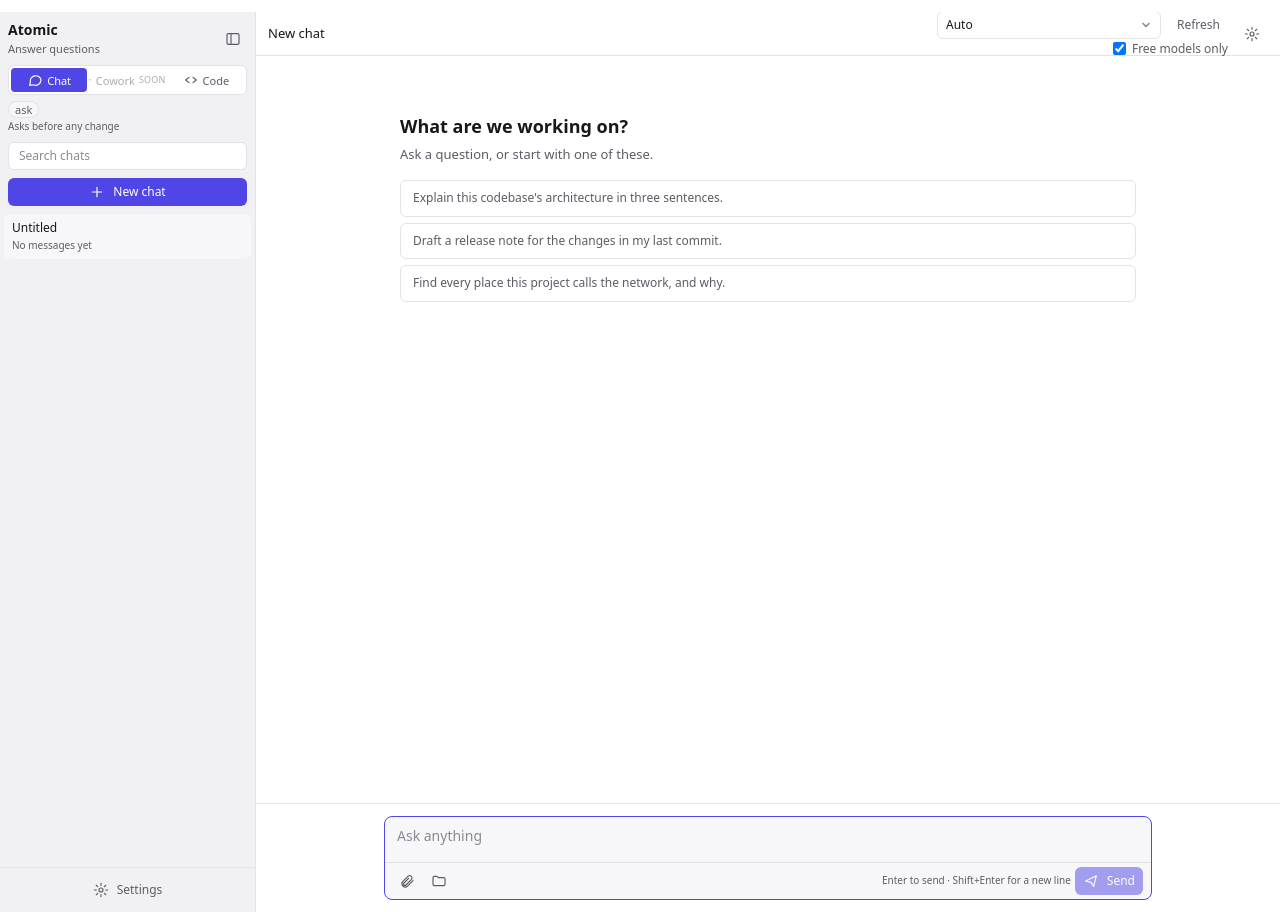
Test: New chat, through the real App › still works while a run is streaming
The width and height of the screenshot is (1280, 912).
expect the button "New chat" is enabled: met, box [8,178,247,206]
Step 1. Type "working on it" into the text box labelled "Ask anything" → (768, 837), box [385,817,1151,856]
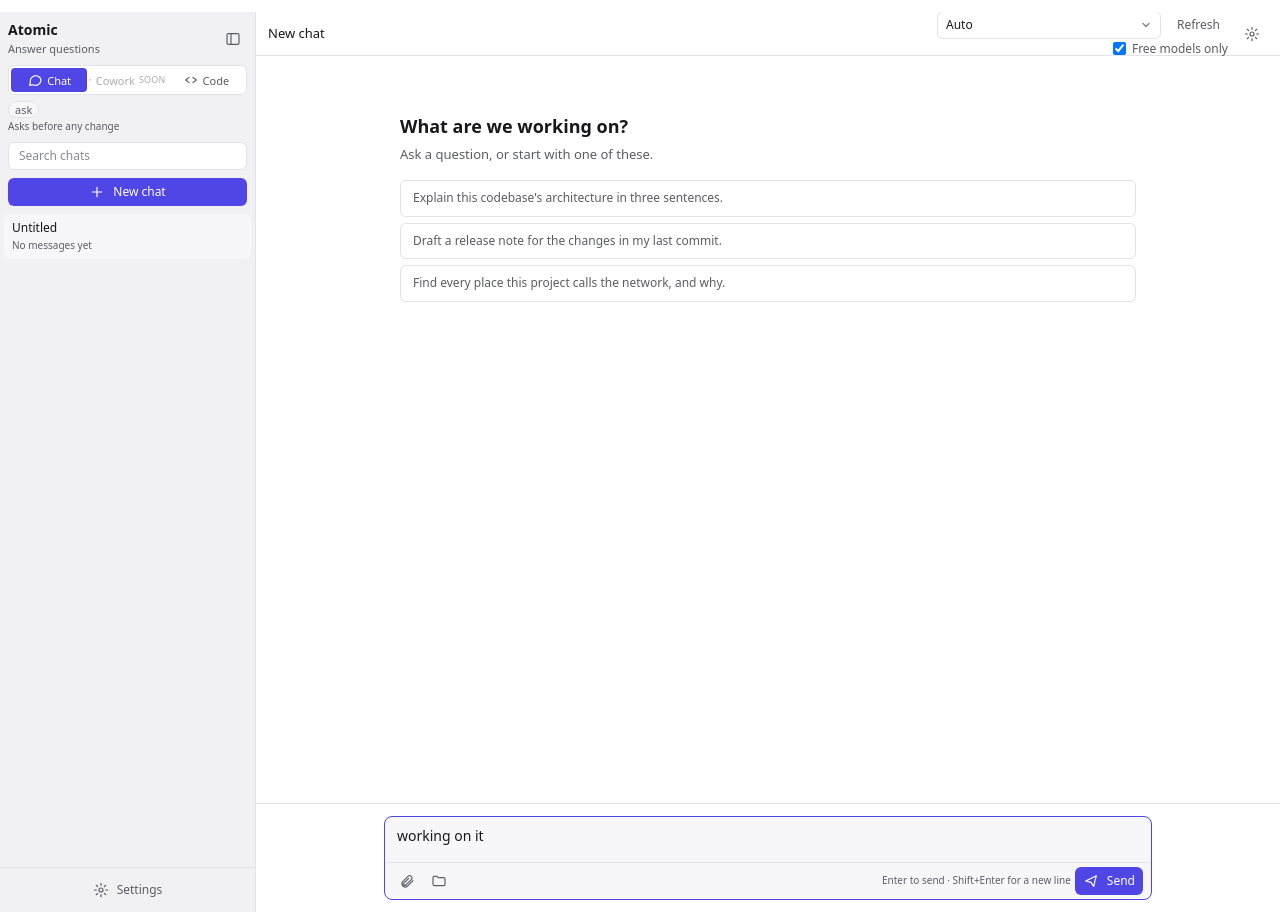
Step 2. Click the button "Send" → click(1109, 881), box [1075,867,1143,895]
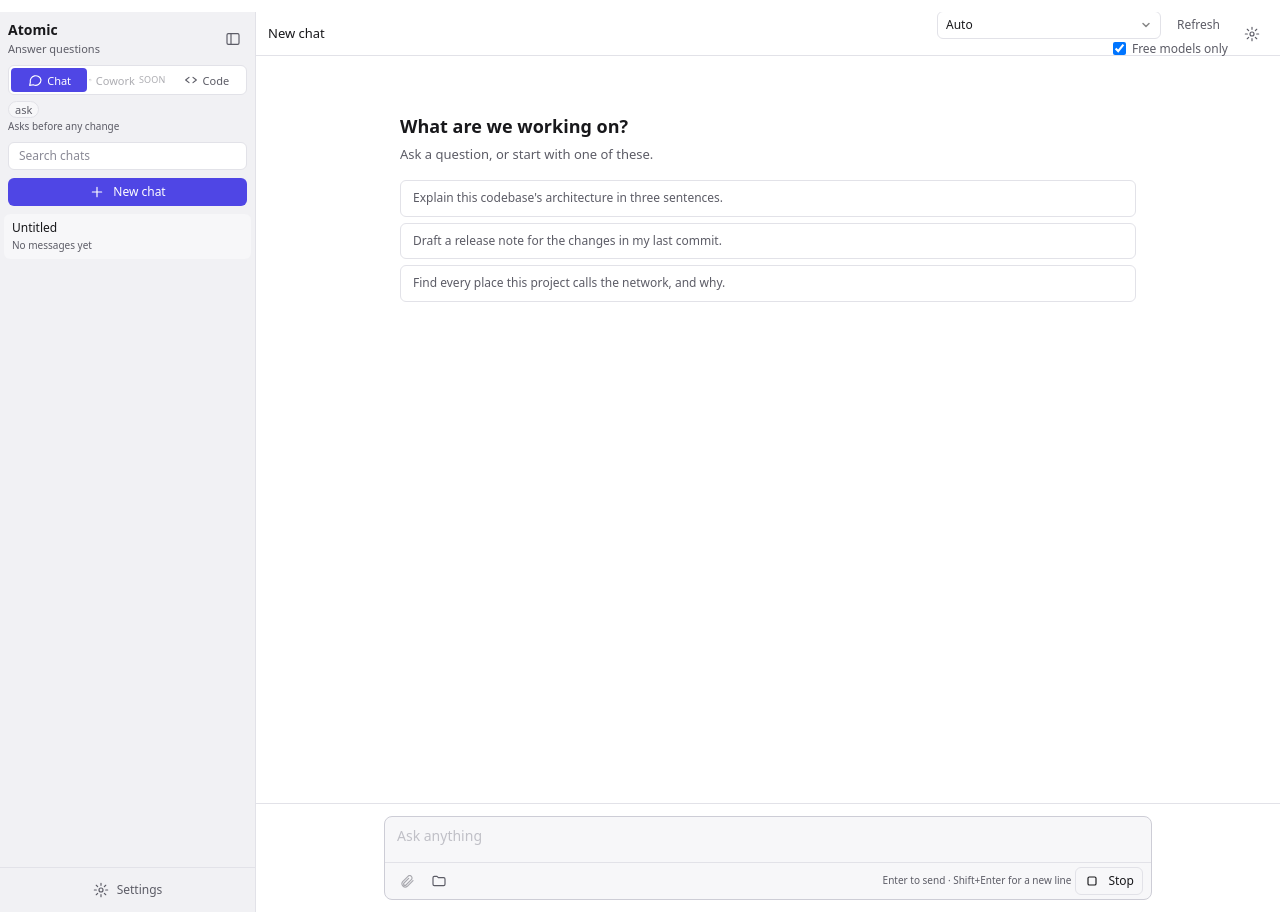
expect the text box labelled "Ask anything" is disabled: met, box [385,817,1151,856]
Step 3. Click the button "New chat" → click(128, 192), box [8,178,247,206]
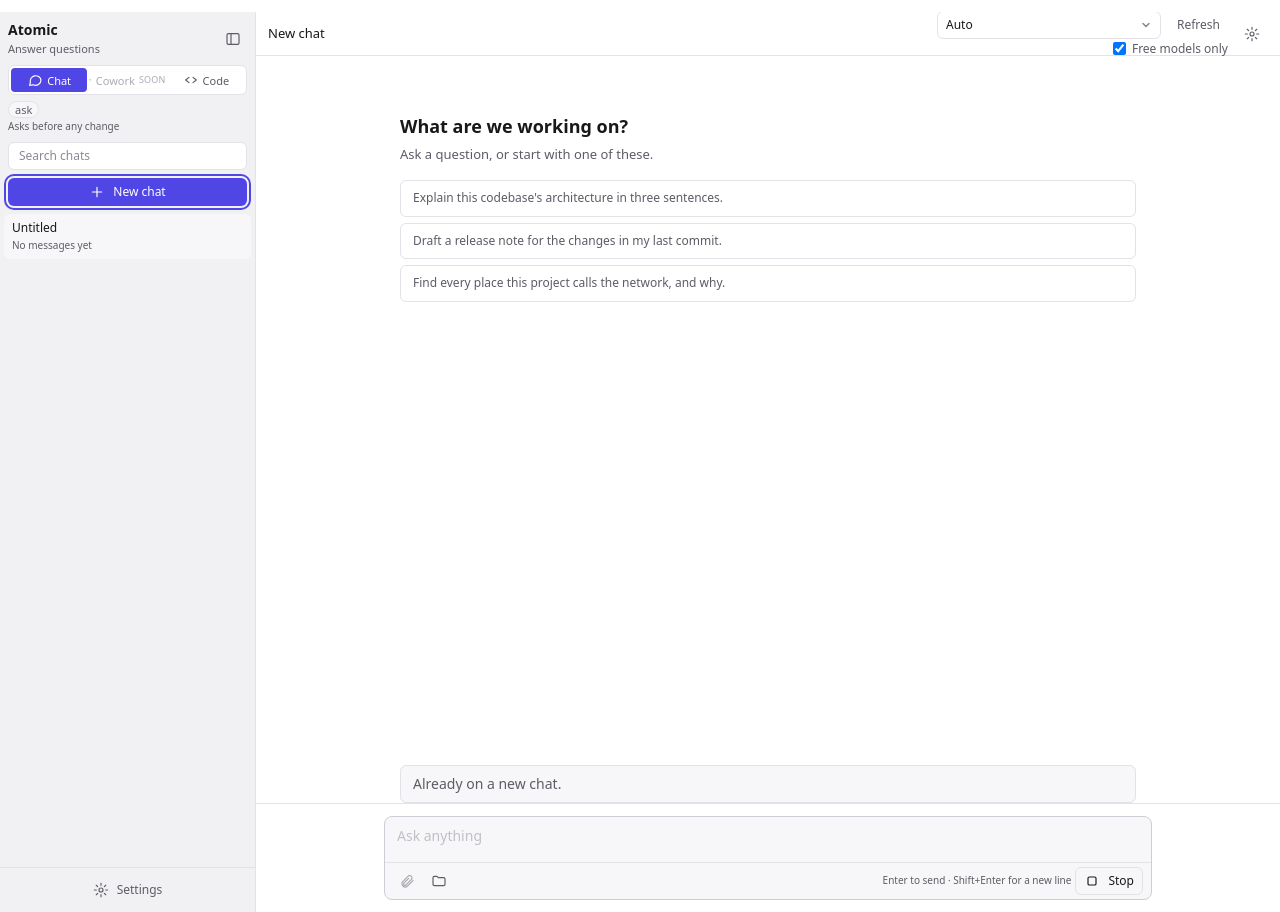
expect the text box labelled "Ask anything" is disabled: met, box [385,817,1151,856]
expect the message shows "Already on a new chat": met, box [413,774,561,793]
